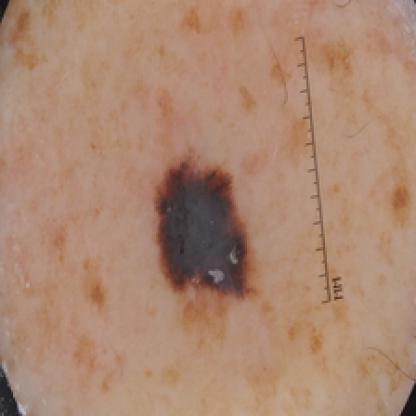malignant: (147, 128, 267, 325)
